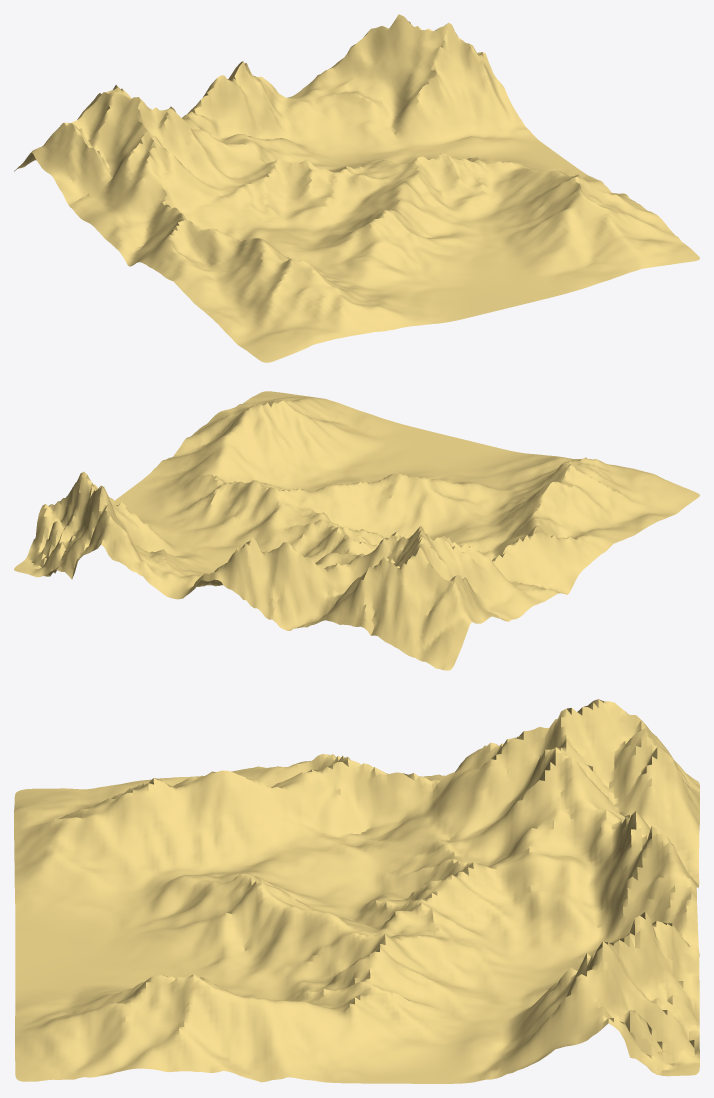
Rendered from Mountains_fbx.fbx.
3 views of the same model, one above another, from view 1: azimuth 30°, elevation 25°; view 2: azimuth 150°, elevation 25°; view 3: azimuth 270°, elevation 25° (orthographic). The views are drawn at different scales.
Parts seen in each view (by area): view 1: PolyPlane_1; view 2: PolyPlane_1; view 3: PolyPlane_1.
Part boxes in pixels (<box>): PolyPlane_1: <box>14,14,699,362</box>; PolyPlane_1: <box>14,391,699,670</box>; PolyPlane_1: <box>14,699,699,1083</box>.
Size of the model in its own units: 13.3 by 2.95 by 13.25.
